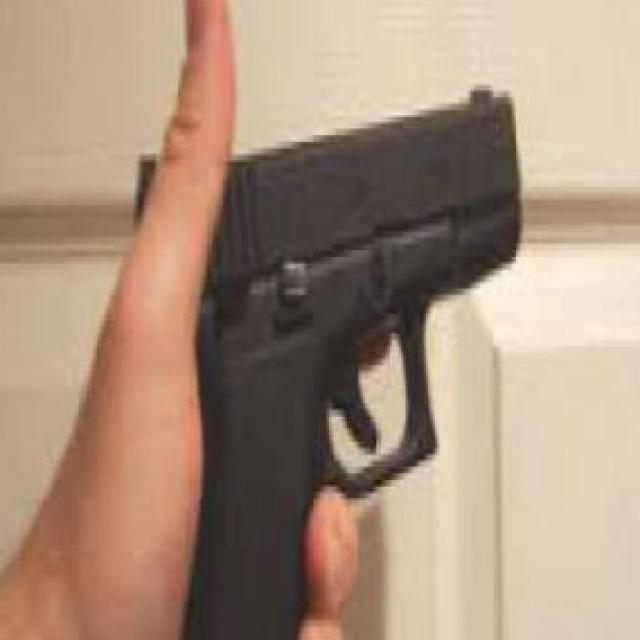pistol: (119, 65, 523, 640)
